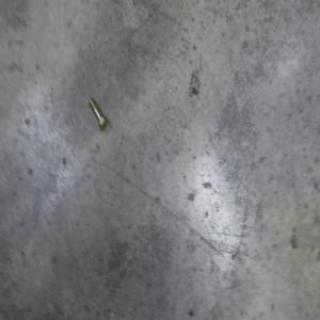Bolttrack_idkeyframe: (84, 95, 106, 131)
